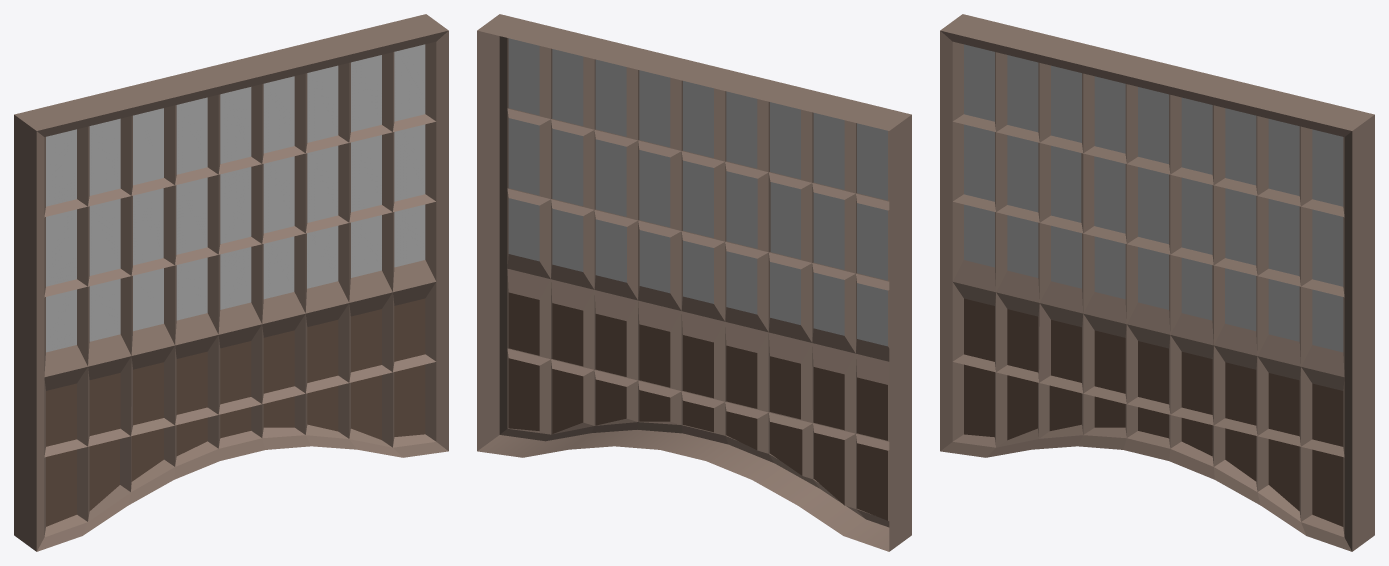
Rendered from wall_default_door_single.fbx.
3 views of the same model, side by side, from view 1: azimuth 30°, elevation 25°; view 2: azimuth 150°, elevation 25°; view 3: azimuth 330°, elevation 25° (orthographic).
Parts seen in each view (by area): view 1: Wall_3_single; view 2: Wall_3_single; view 3: Wall_3_single.
Part boxes in pixels (box(x1,y1,x2,y2)): Wall_3_single: box(14, 14, 448, 551); Wall_3_single: box(477, 14, 911, 551); Wall_3_single: box(940, 14, 1374, 551).
Bounding box in the file's own units: 7.4 × 7.22 × 0.7031.
